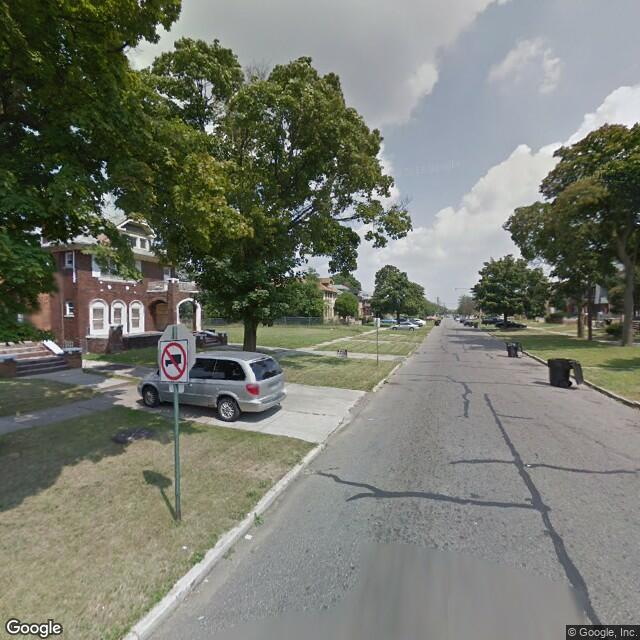litter: (200, 577, 213, 585), (242, 531, 251, 542), (196, 614, 206, 623), (181, 543, 188, 553)
